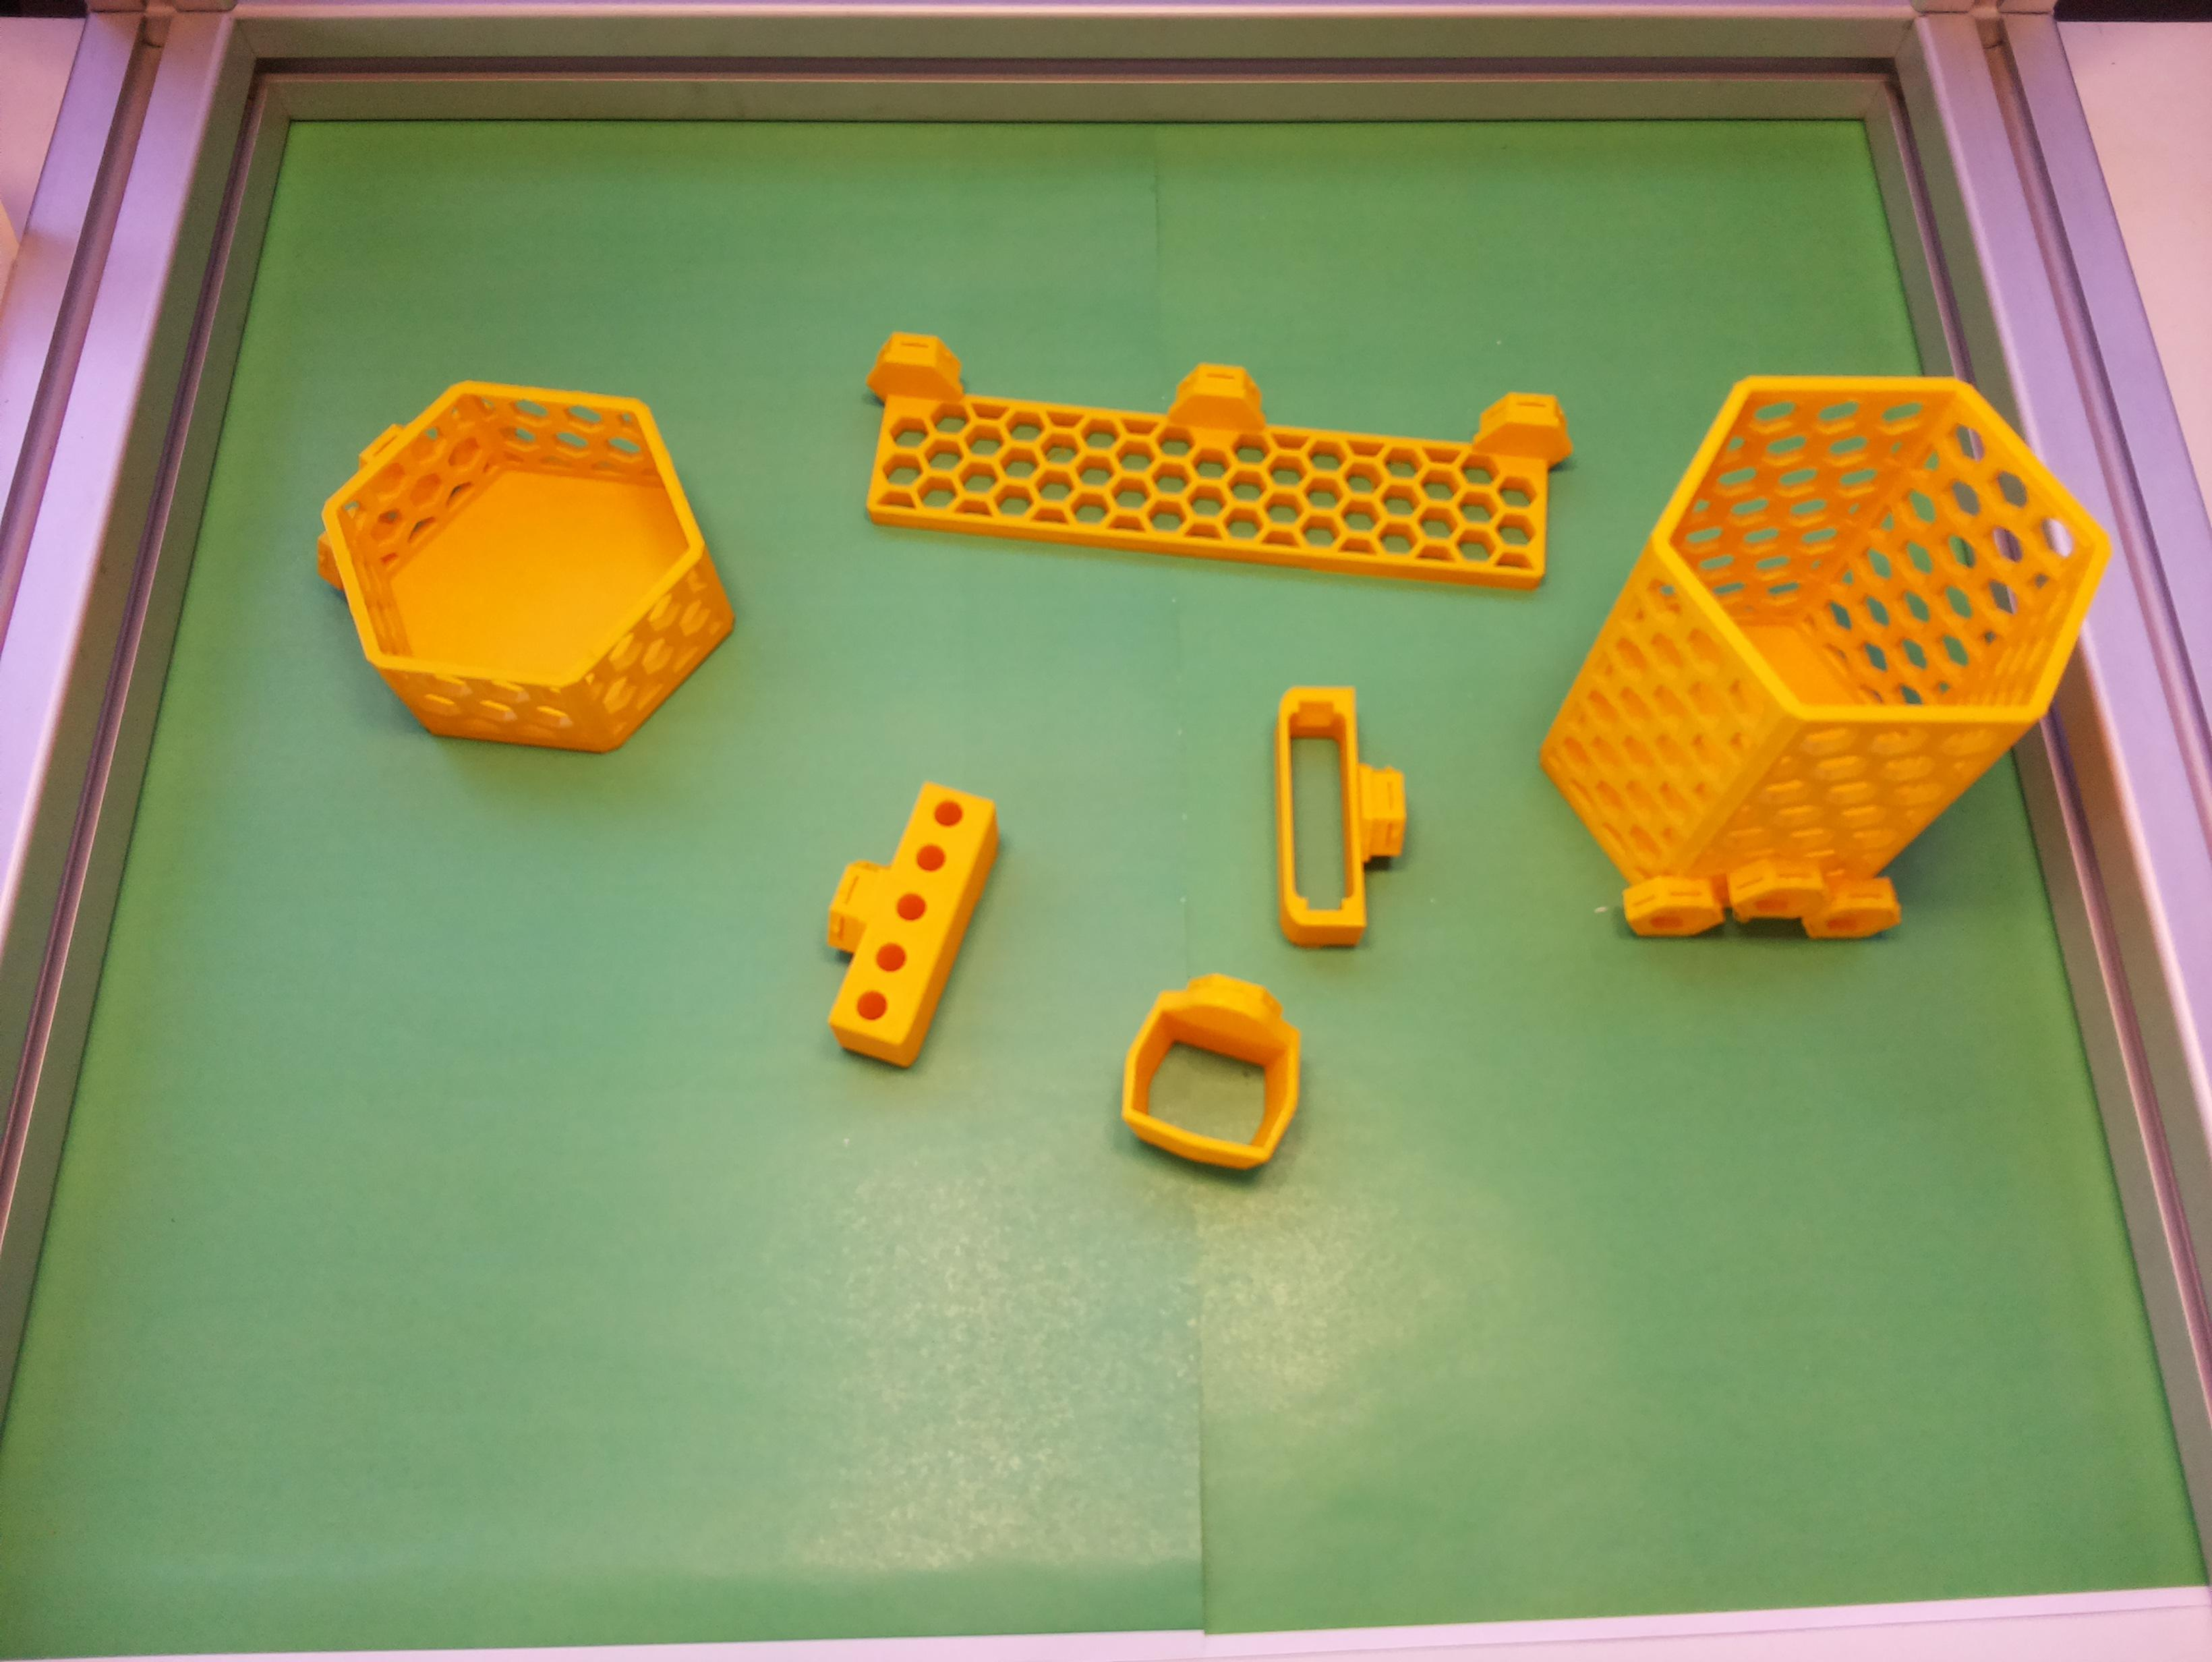bit_holder: (784, 759, 1014, 1075)
bottle_holder: (272, 311, 780, 831)
cup_holder: (1480, 286, 2167, 1054)
cutter_holder: (1273, 686, 1407, 946)
scissor_holder: (1102, 955, 1329, 1187)
tool_holder: (854, 330, 1575, 594)
